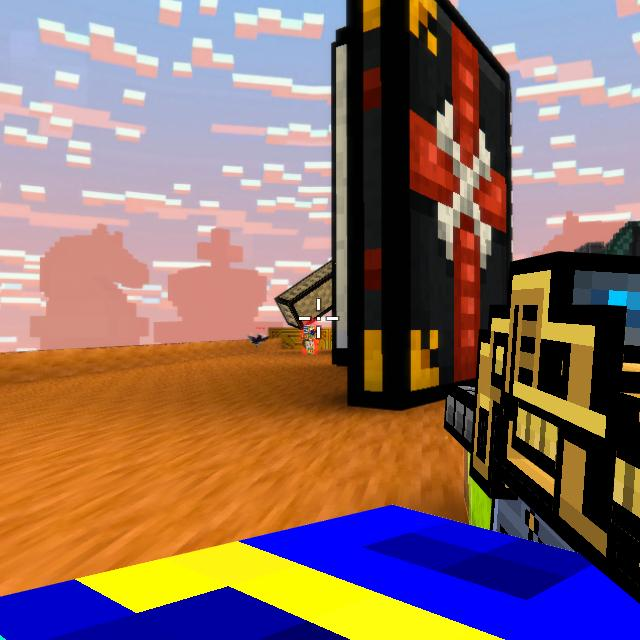Enemy: (302, 326, 320, 356)
